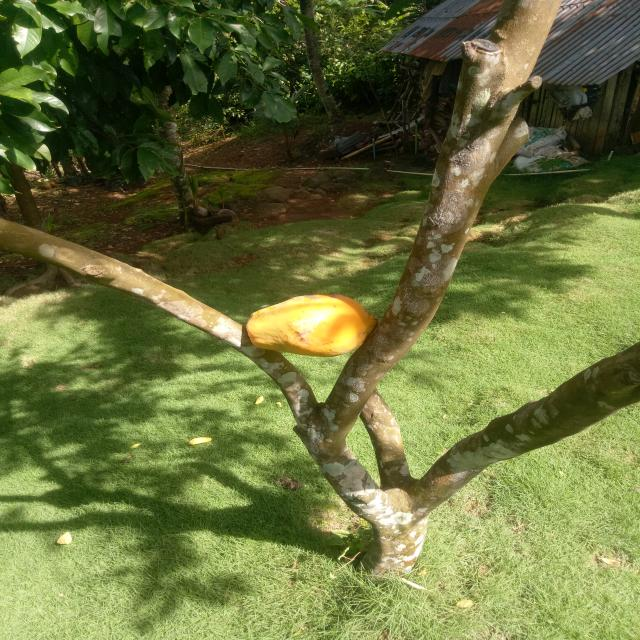Pepaya rippen: (225, 288, 373, 360)
